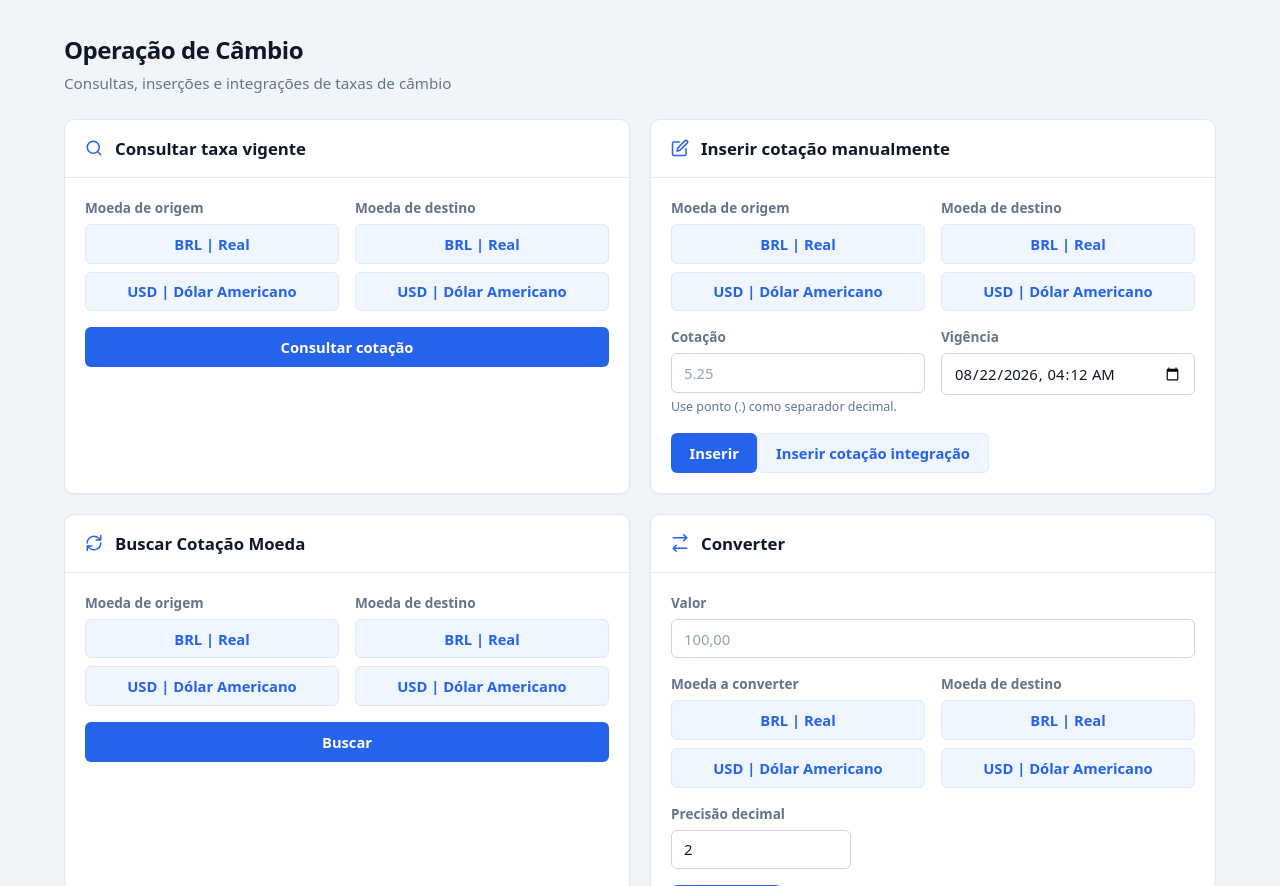
Test case: CambioPage › inserts an integration quote with the manual vigency
Click the button with aria-label "BRL como moeda de origem para inserção".
click(798, 244)  # box [671, 224, 925, 264]
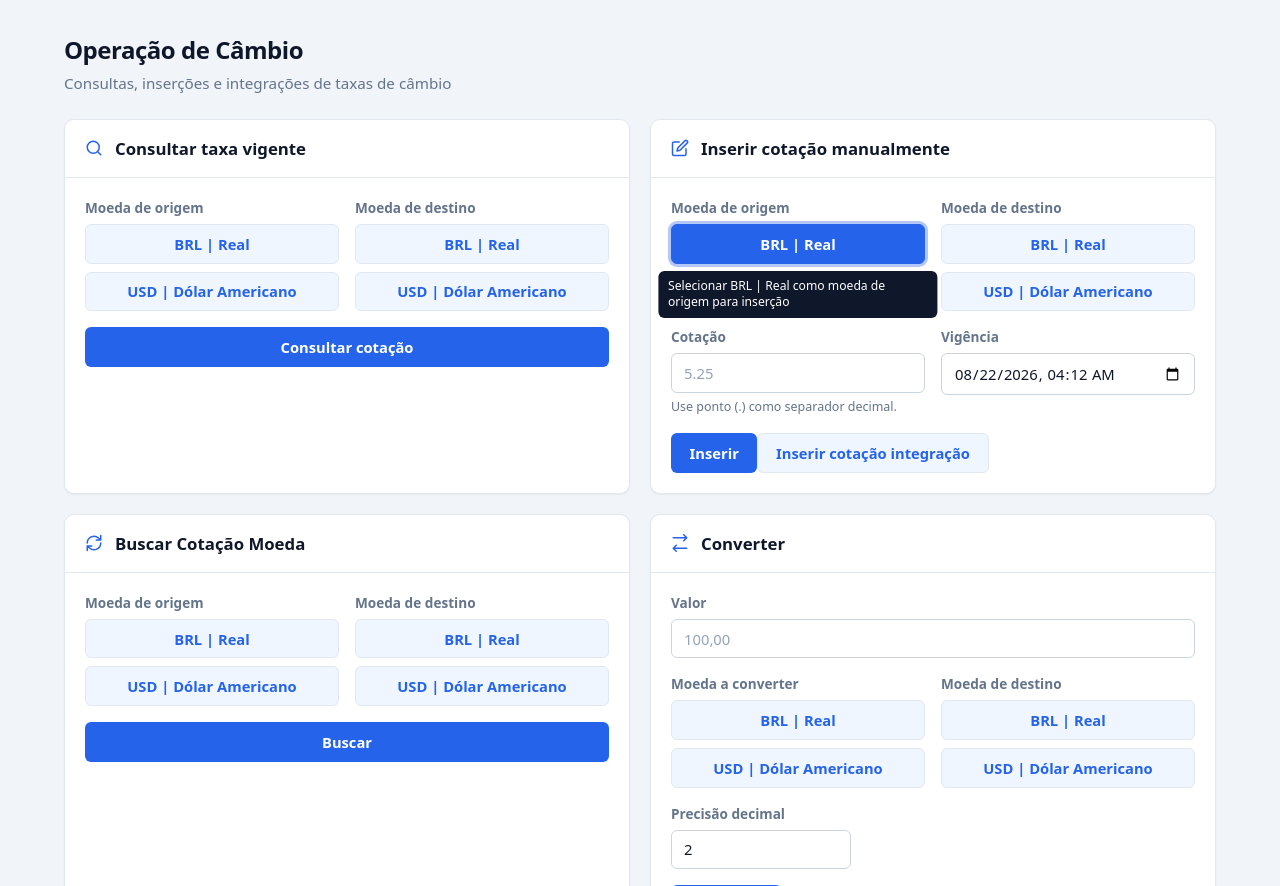
Click the button with aria-label "USD como moeda de destino para inserção".
click(1068, 291)  # box [941, 272, 1195, 311]
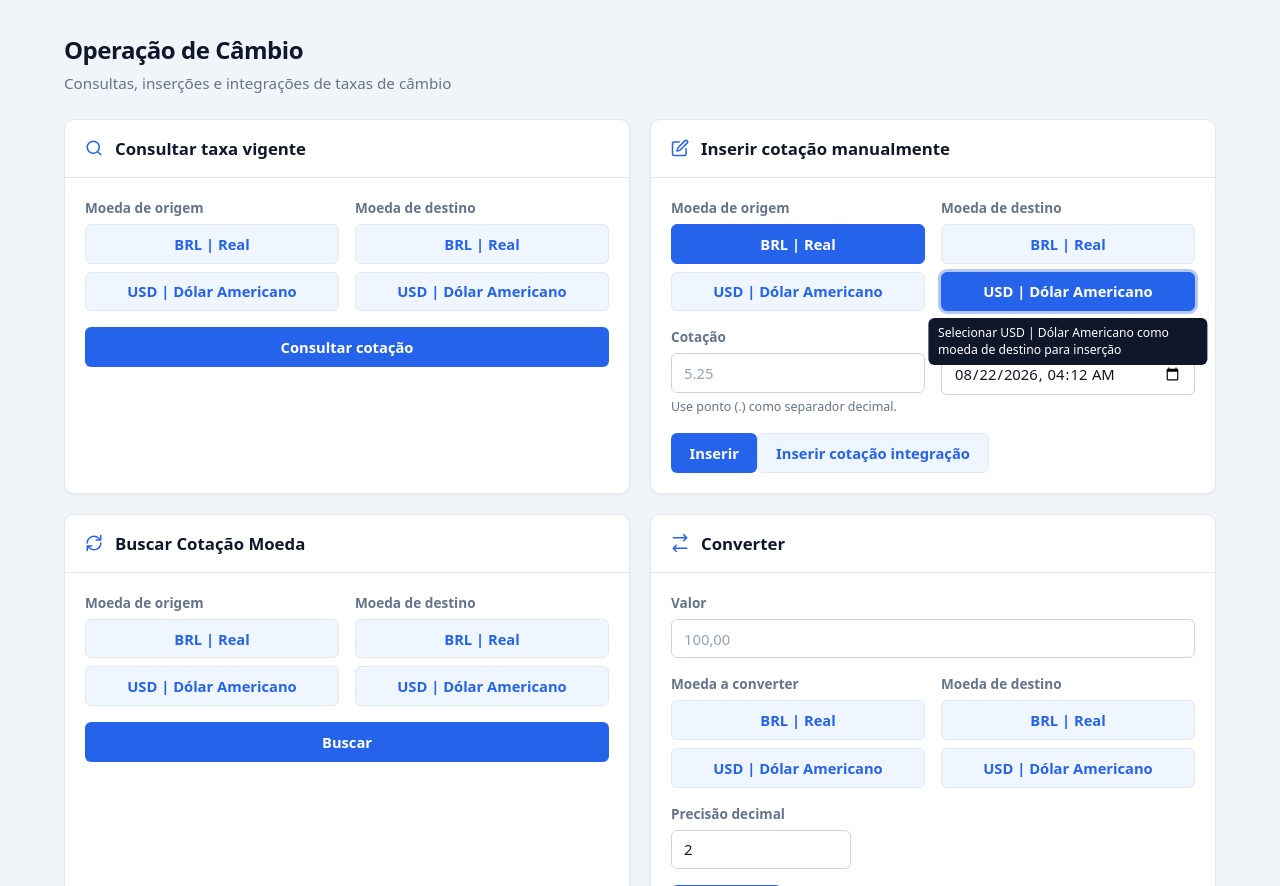
Click the button "Inserir cotação integração".
click(873, 453)  # box [758, 433, 988, 473]
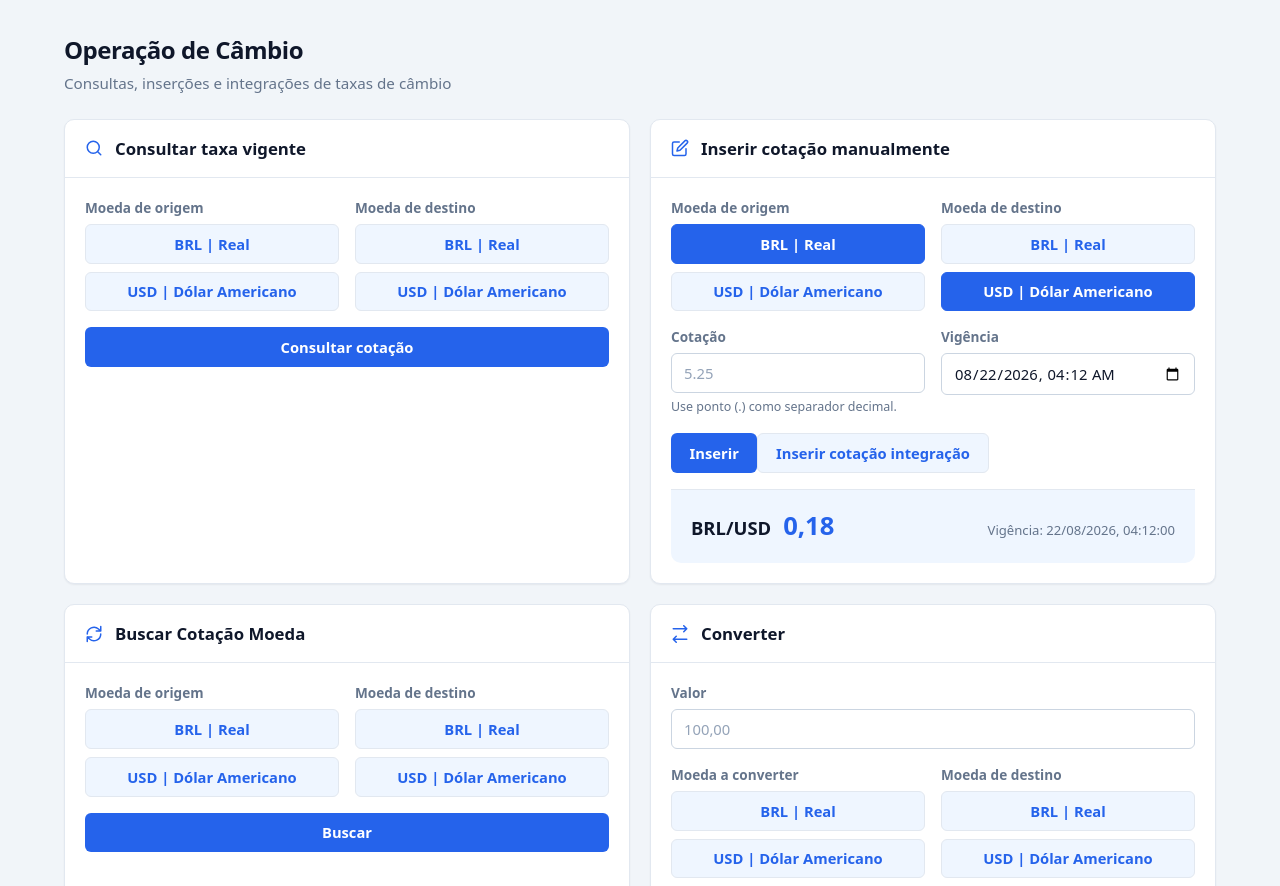
Expected: the element with test id "taxa-resultado" shows "0,18", [783, 508, 834, 543]
